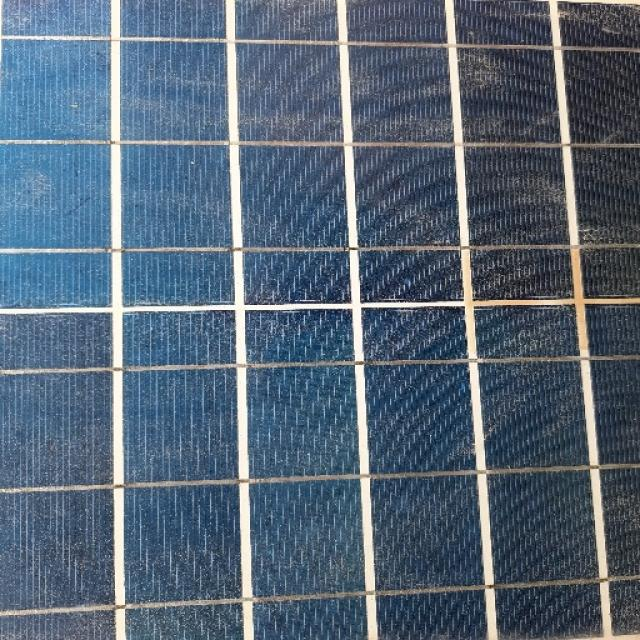Dirty: (0, 0, 640, 478)
